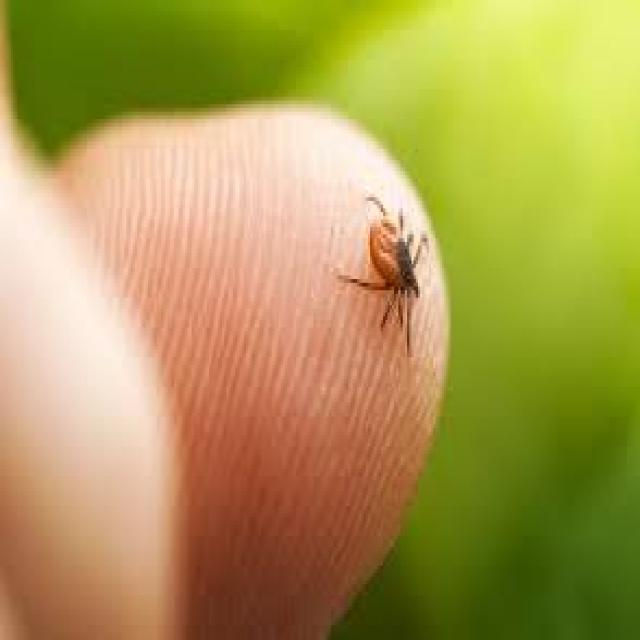kene: (355, 219, 430, 321)
